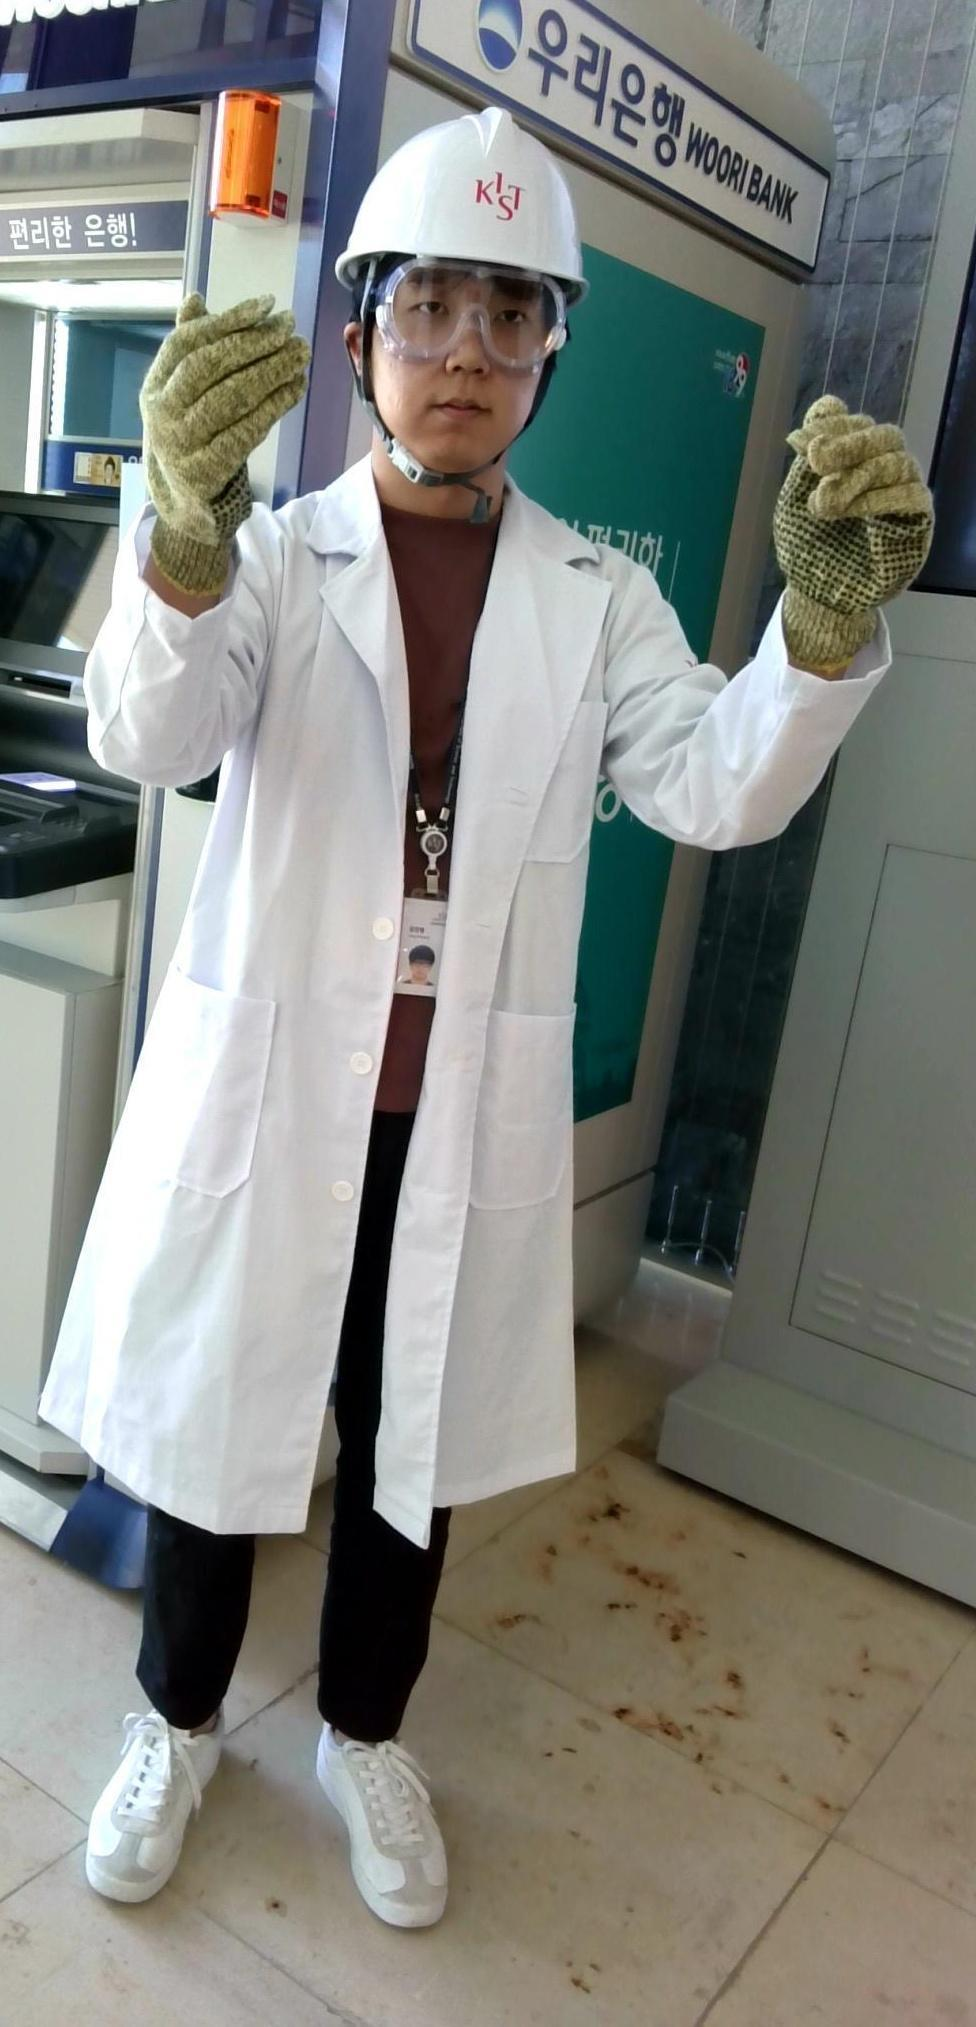lab_coat: (128, 546, 591, 1492)
